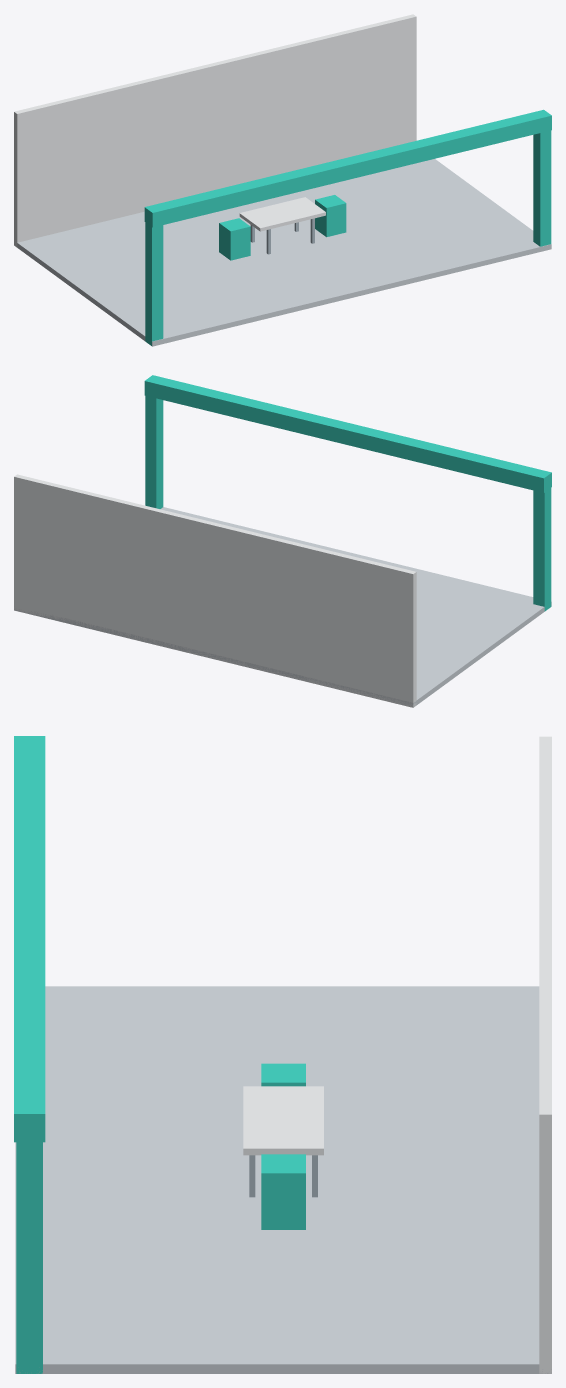
The picture shows the model from 3 angles, top to bottom: view 1: azimuth 30°, elevation 25°; view 2: azimuth 150°, elevation 25°; view 3: azimuth 270°, elevation 25°; orthographic projection. The views are drawn at different scales.
Visible parts, largest first — view 1: Exhibition Booth Concept; view 2: Exhibition Booth Concept; view 3: Exhibition Booth Concept.
Boxes of the visible parts, x1,y1,x2,y2 form: Exhibition Booth Concept: (14, 14, 551, 346); Exhibition Booth Concept: (14, 375, 551, 707); Exhibition Booth Concept: (14, 736, 551, 1373).
Bounding box in the file's own units: 10 × 3.2 × 6.02.
